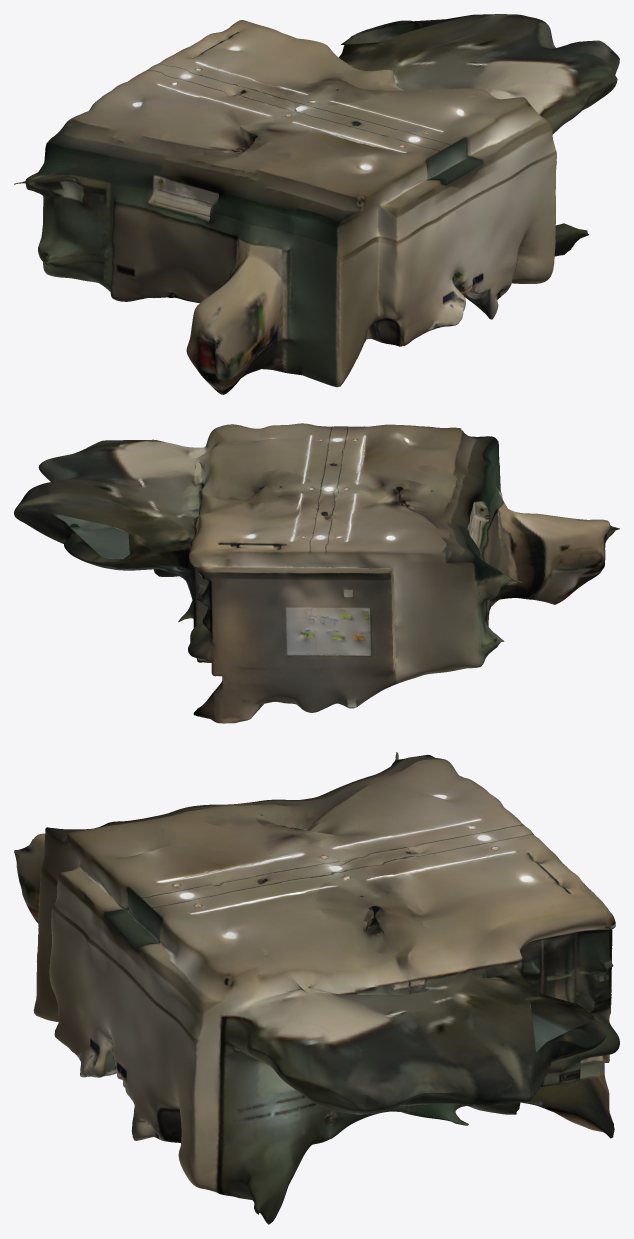
File: 3DModel.glb
The picture shows the model from 3 angles, top to bottom: view 1: azimuth 30°, elevation 25°; view 2: azimuth 150°, elevation 25°; view 3: azimuth 270°, elevation 25°; orthographic projection. The views are drawn at different scales.
Visible parts, largest first — view 1: 3DModel; view 2: 3DModel; view 3: 3DModel.
Part boxes in pixels (x1,y1,x2,y2): 3DModel: [14, 14, 619, 394]; 3DModel: [14, 423, 619, 723]; 3DModel: [14, 752, 619, 1224].
Size of the model in its own units: 3.14 by 1.1 by 2.32.
Materials: 1 (1 with a texture image).
